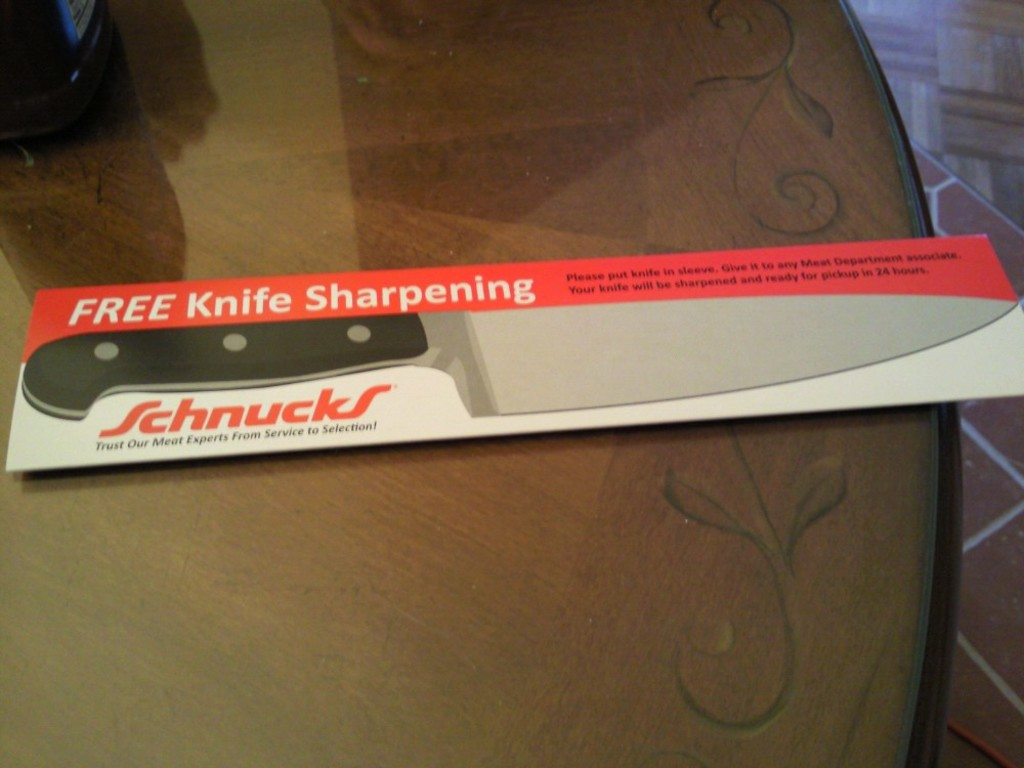kitchen knife: (20, 286, 1015, 415)
